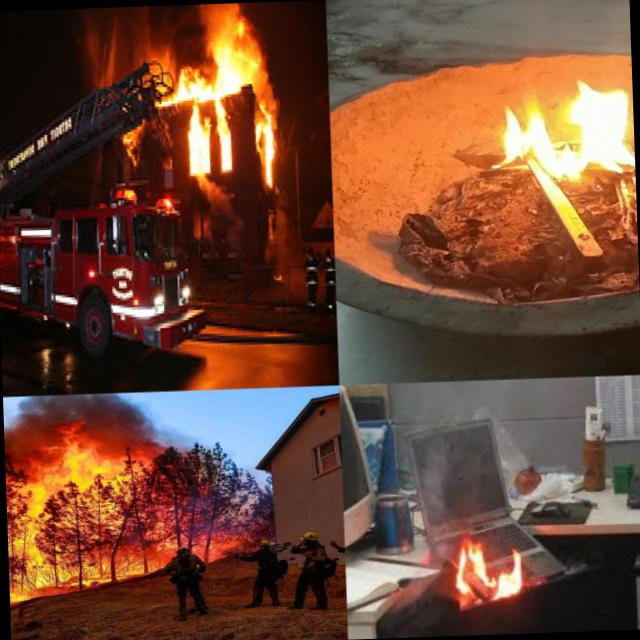fire: (469, 64, 636, 211), (173, 2, 281, 172), (6, 490, 178, 594), (82, 5, 175, 89), (452, 542, 524, 606), (39, 430, 103, 498), (120, 116, 150, 170), (10, 594, 38, 619)
smoke: (397, 434, 453, 607), (6, 392, 158, 446), (193, 162, 234, 220)
